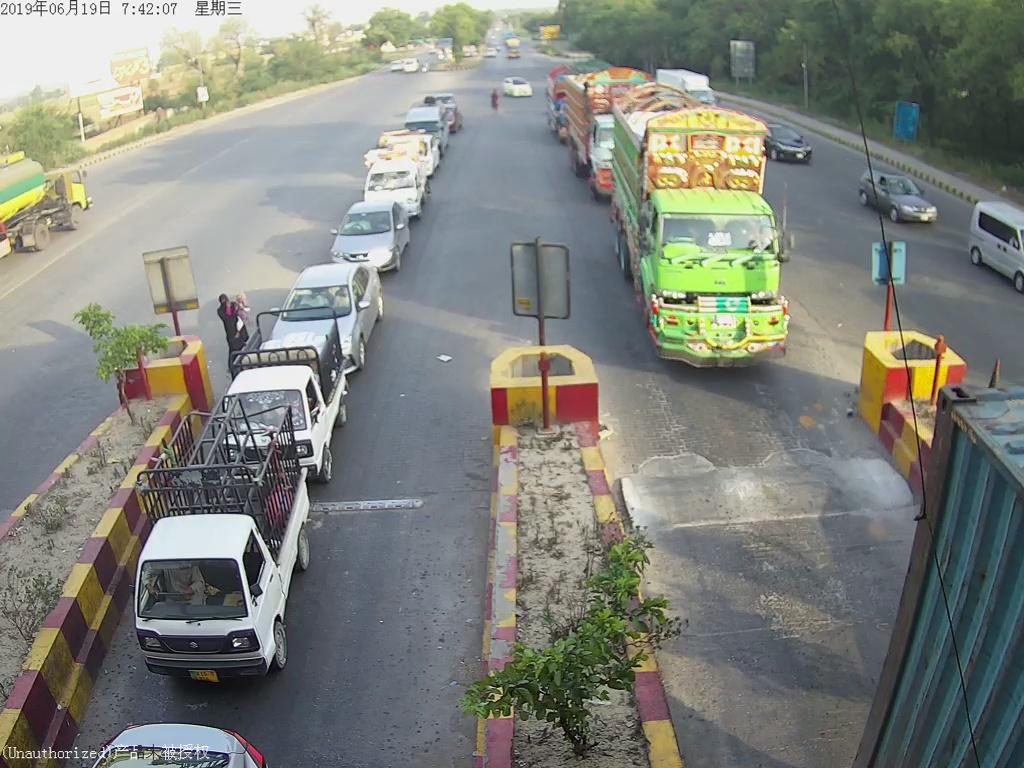Cat-1: (136, 405, 326, 681)
Cat-4: (612, 88, 806, 383)
